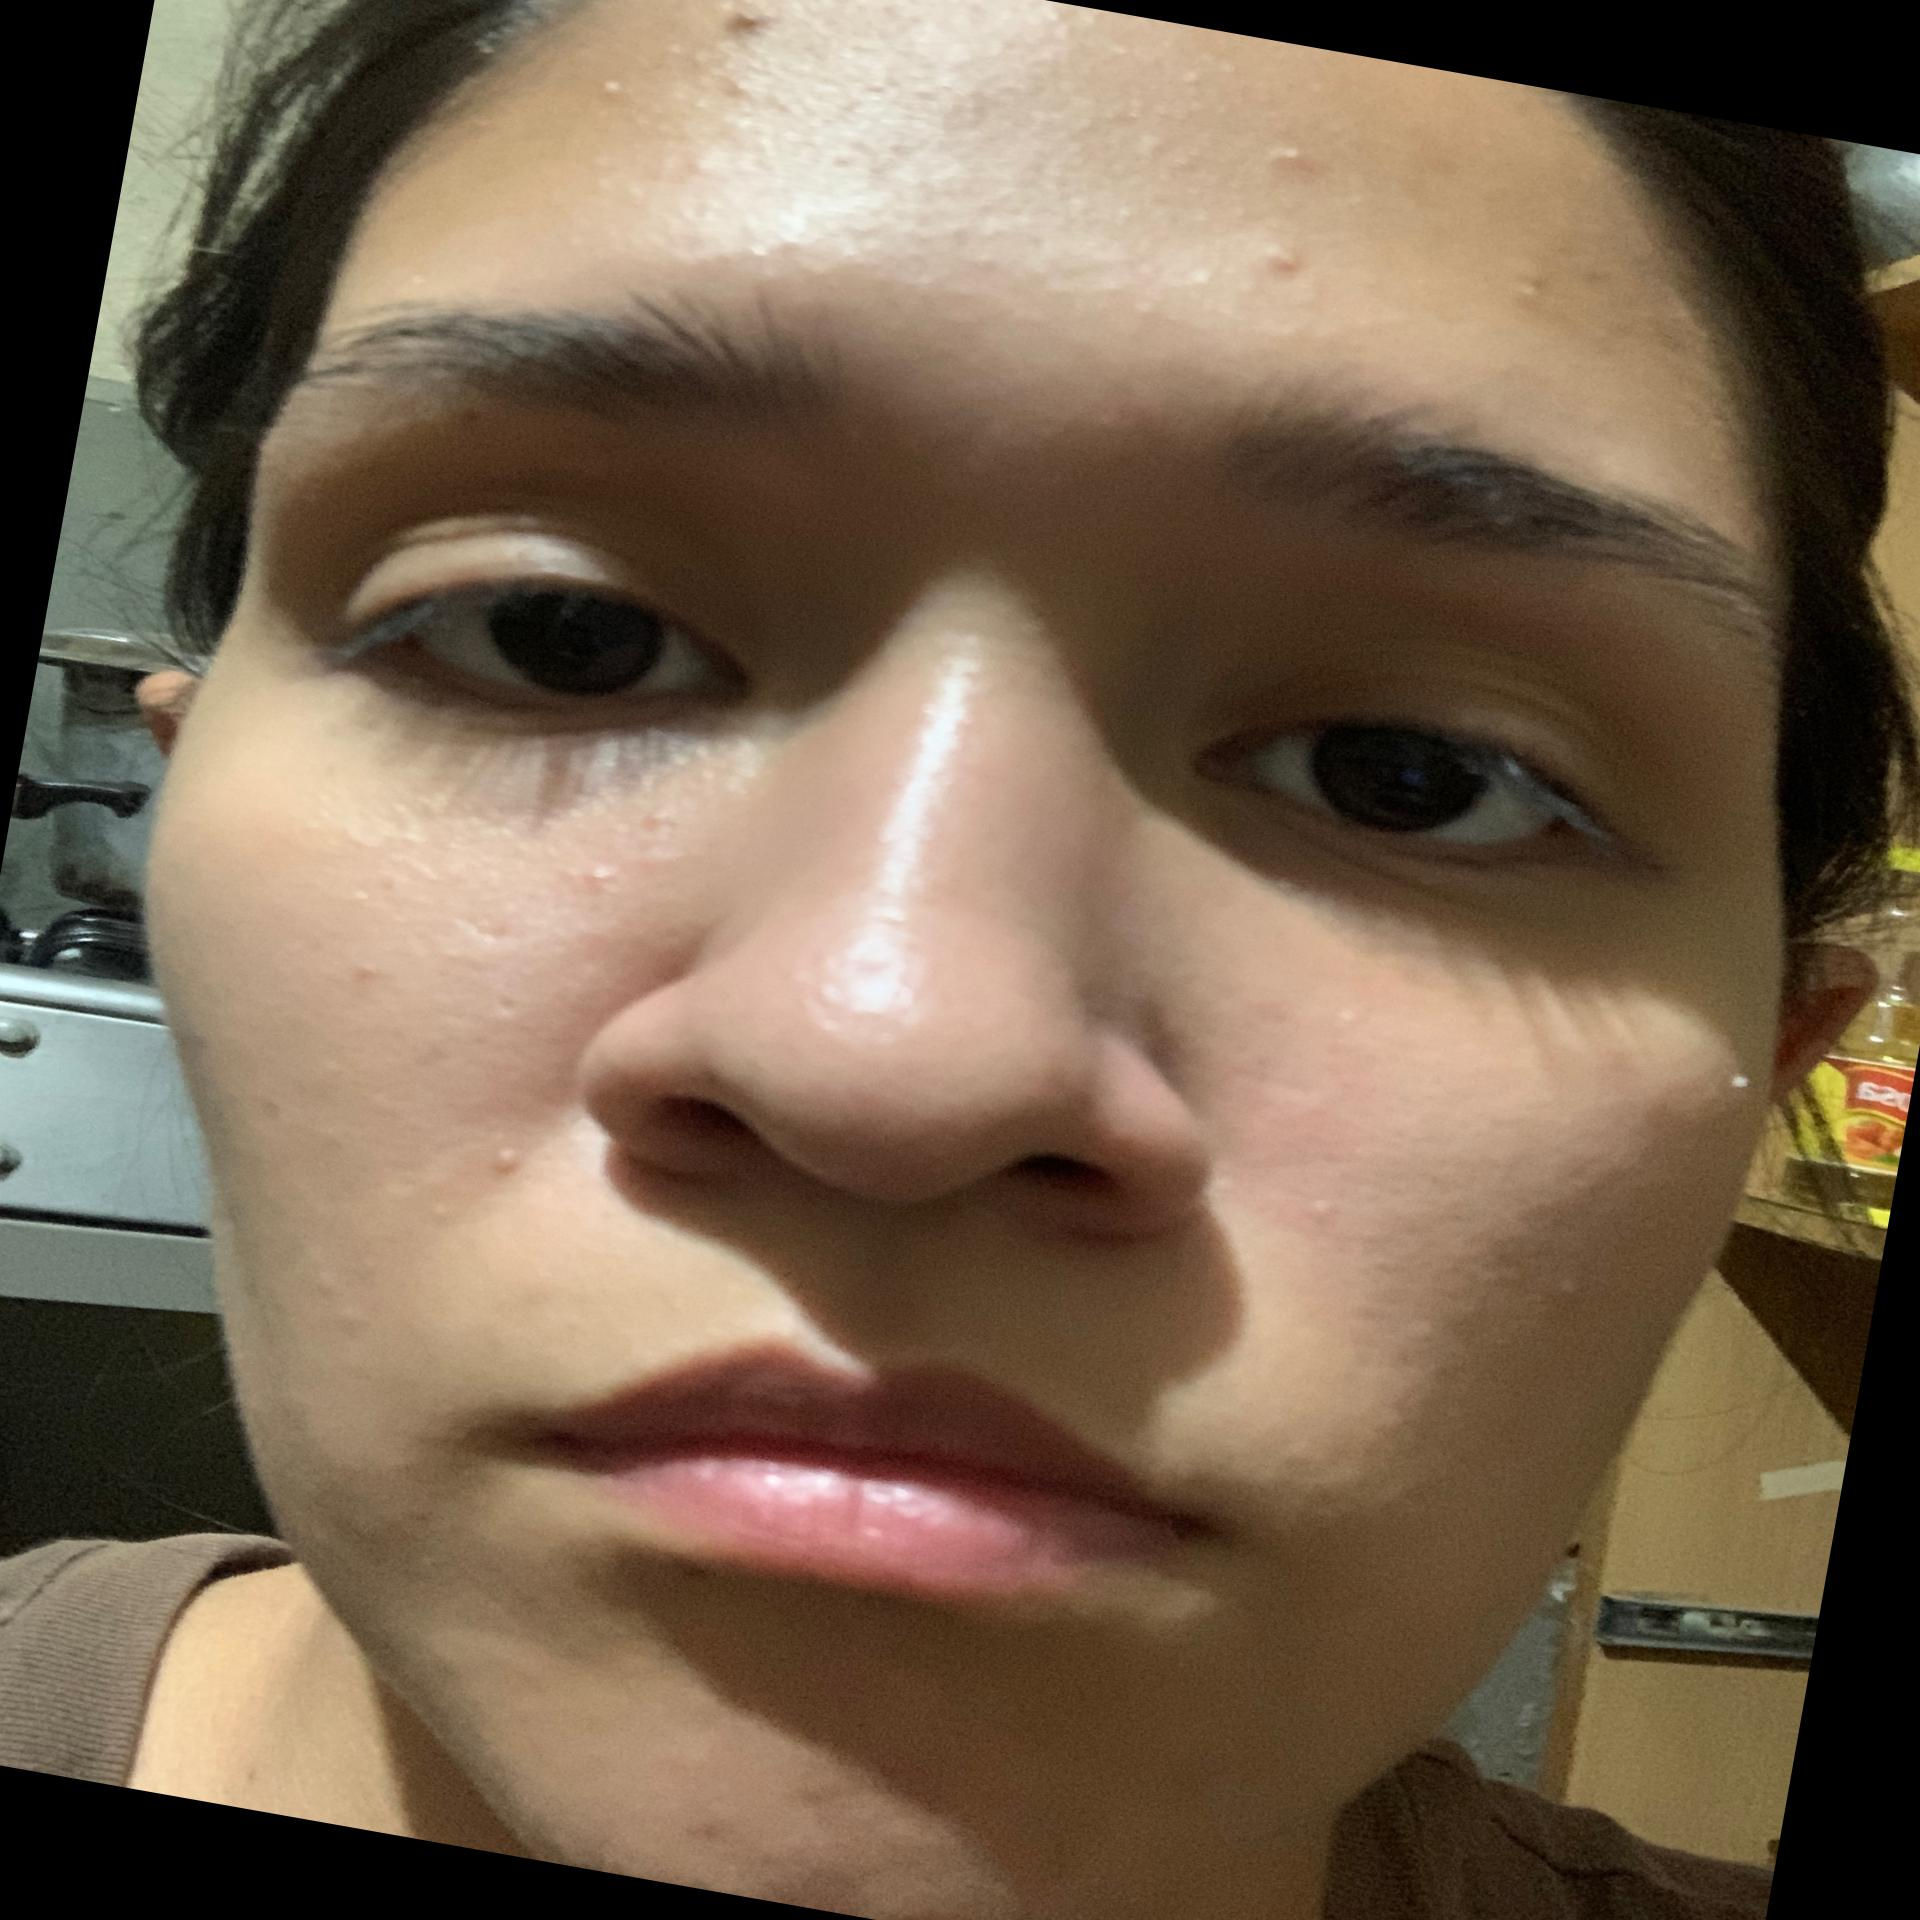Acne: (1231, 121, 1331, 200), (1289, 990, 1378, 1062), (559, 56, 645, 128), (1676, 1060, 1764, 1124), (457, 1127, 533, 1194), (571, 849, 644, 914), (287, 1247, 360, 1306), (673, 1802, 751, 1858), (413, 1182, 478, 1248), (343, 942, 413, 993), (1264, 229, 1327, 281), (1535, 1269, 1602, 1313), (1287, 1183, 1345, 1233), (1503, 248, 1565, 294), (1276, 1438, 1335, 1486), (325, 1292, 383, 1340), (1389, 1310, 1445, 1357), (712, 67, 767, 114), (717, 0, 784, 39), (686, 135, 738, 179), (636, 793, 680, 830)
Englarged Pores: (433, 911, 622, 1102)
